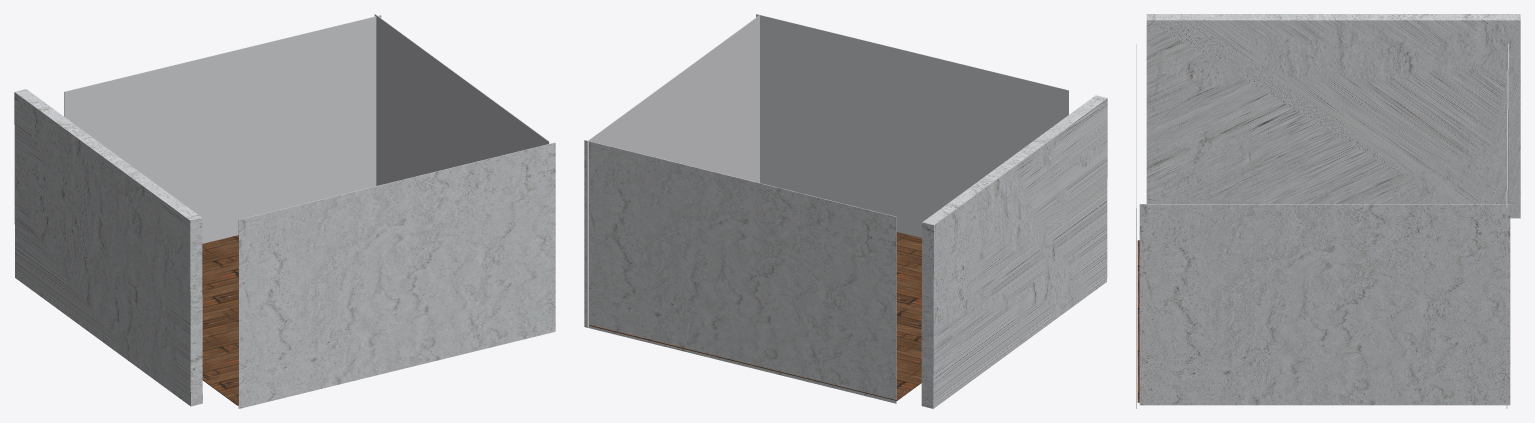
File: own.obj
3 views of the same model, side by side, from view 1: azimuth 30°, elevation 25°; view 2: azimuth 150°, elevation 25°; view 3: azimuth 270°, elevation 25° (orthographic). The views are drawn at different scales.
Parts seen in each view (by area): view 1: Wall.002_Floor.003, Wall.001_Floor.002, Wall_thich.000_Cube.002, Wall_Floor.001, Floor; view 2: Wall.001_Floor.002, Wall.002_Floor.003, Wall_thich.000_Cube.002, Wall_Floor.001, Floor; view 3: Wall_Floor.001, Wall_thich.000_Cube.002, Wall.001_Floor.002, Floor, Wall.002_Floor.003.
Part boxes in pixels (x1,y1,x2,y2): Wall.002_Floor.003: [238, 142, 555, 408]; Wall.001_Floor.002: [64, 15, 381, 243]; Wall_thich.000_Cube.002: [14, 89, 202, 406]; Wall_Floor.001: [374, 14, 549, 185]; Floor: [202, 235, 238, 405]; Wall.001_Floor.002: [584, 140, 896, 403]; Wall.002_Floor.003: [756, 14, 1068, 237]; Wall_thich.000_Cube.002: [921, 95, 1107, 408]; Wall_Floor.001: [587, 15, 759, 327]; Floor: [589, 232, 921, 400]; Wall_Floor.001: [1139, 204, 1510, 405]; Wall_thich.000_Cube.002: [1146, 14, 1520, 218]; Wall.001_Floor.002: [1506, 43, 1508, 408]; Floor: [1137, 240, 1139, 402]; Wall.002_Floor.003: [1136, 43, 1136, 408].
Bounding box in the file's own units: 49.32 × 25.56 × 42.84.
Materials: 3 (3 with a texture image).
